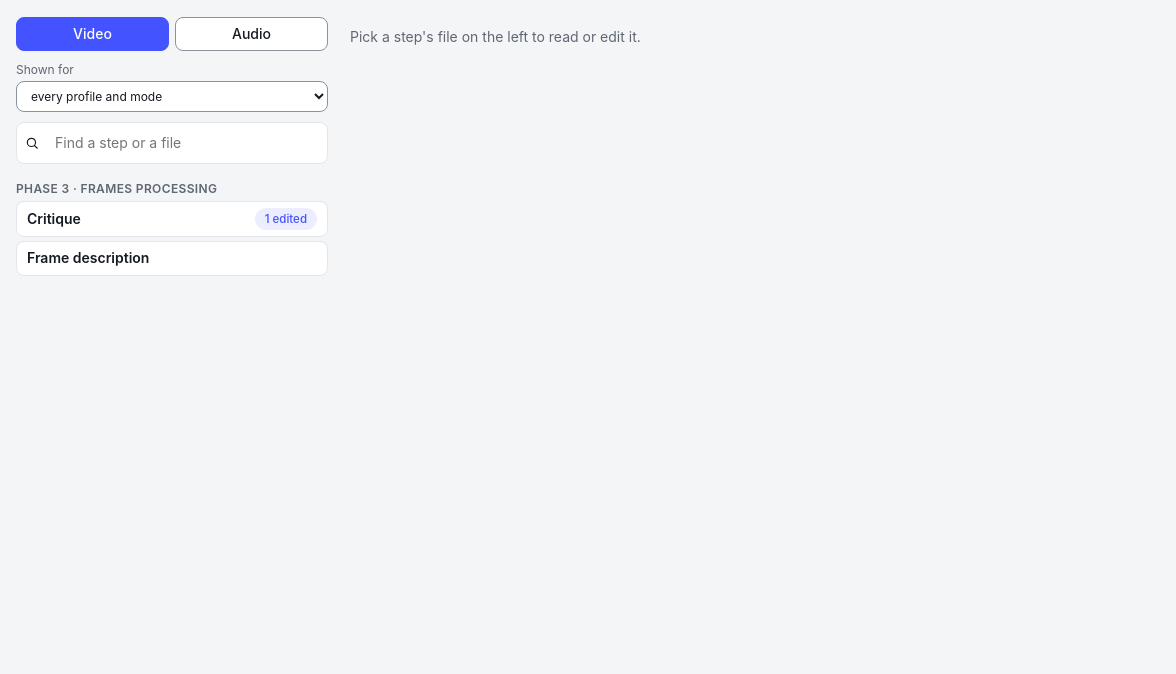
Test: Instructions › puts a shared guideline's text in place of its include, for this file alone
The image size is (1176, 674).
Click the text "Critique" at point(54, 219), box [27,209,81,230]
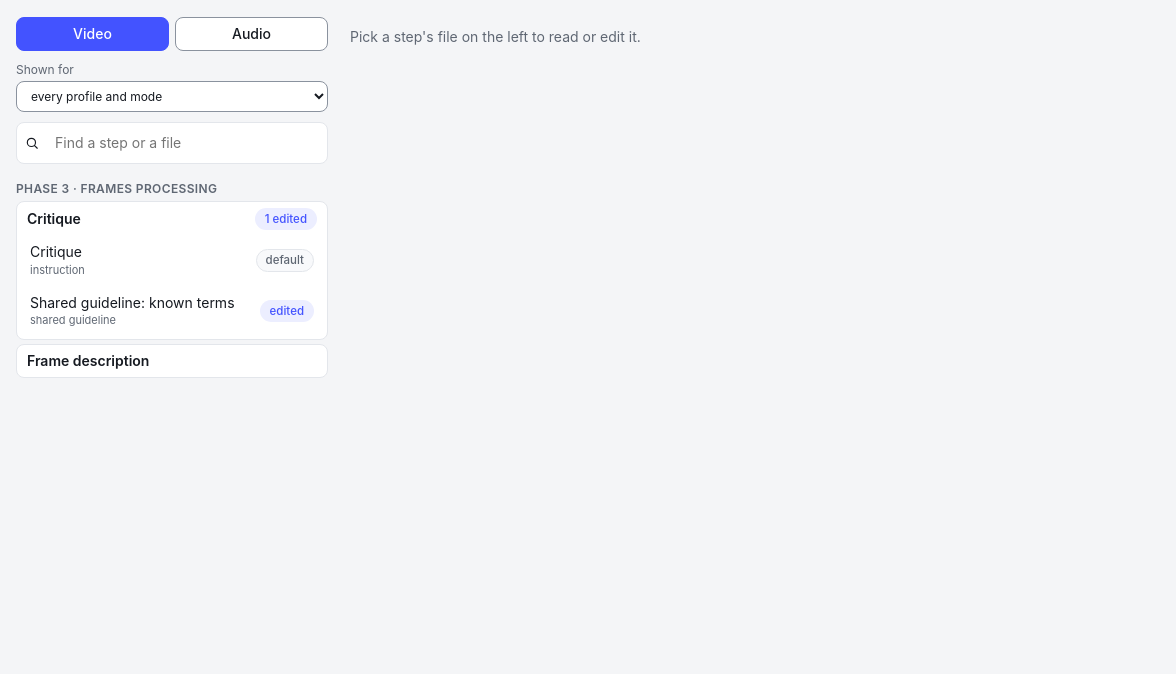
Click the button with aria-label "Critique (instruction), default" at point(56, 252), box [21,236,323,285]
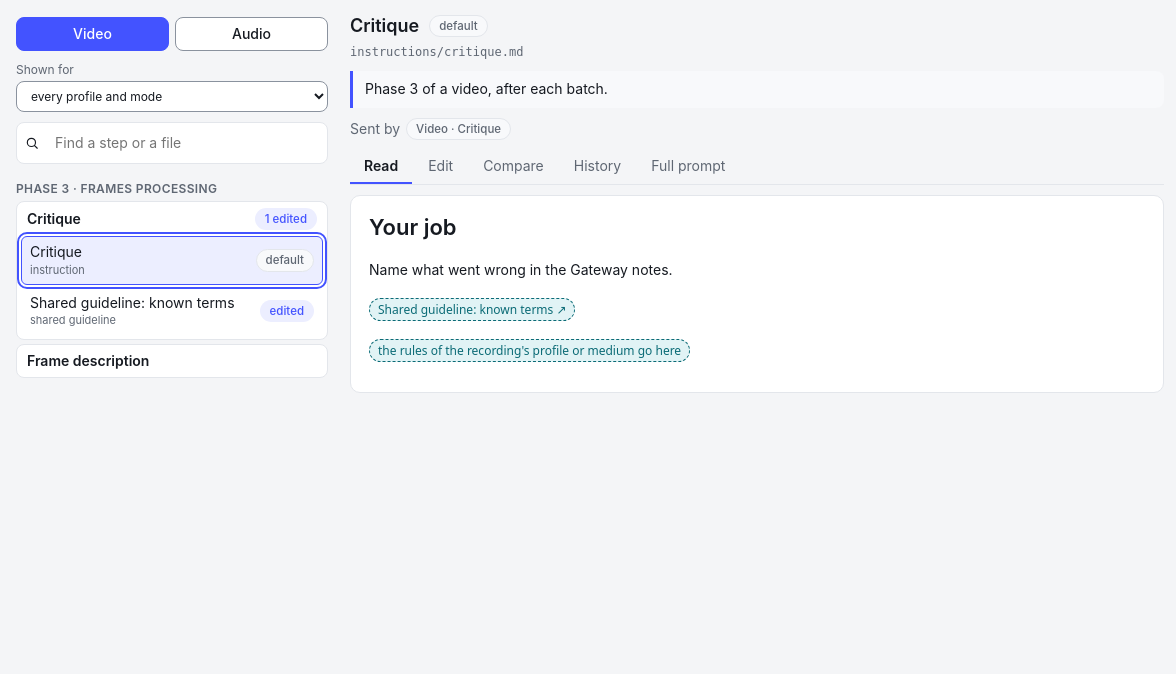
expect the heading "Critique" is shown: met, box [350,13,419,39]
Click the tab "Edit" at point(441, 167), box [414,150,467,184]
(page scrolled)
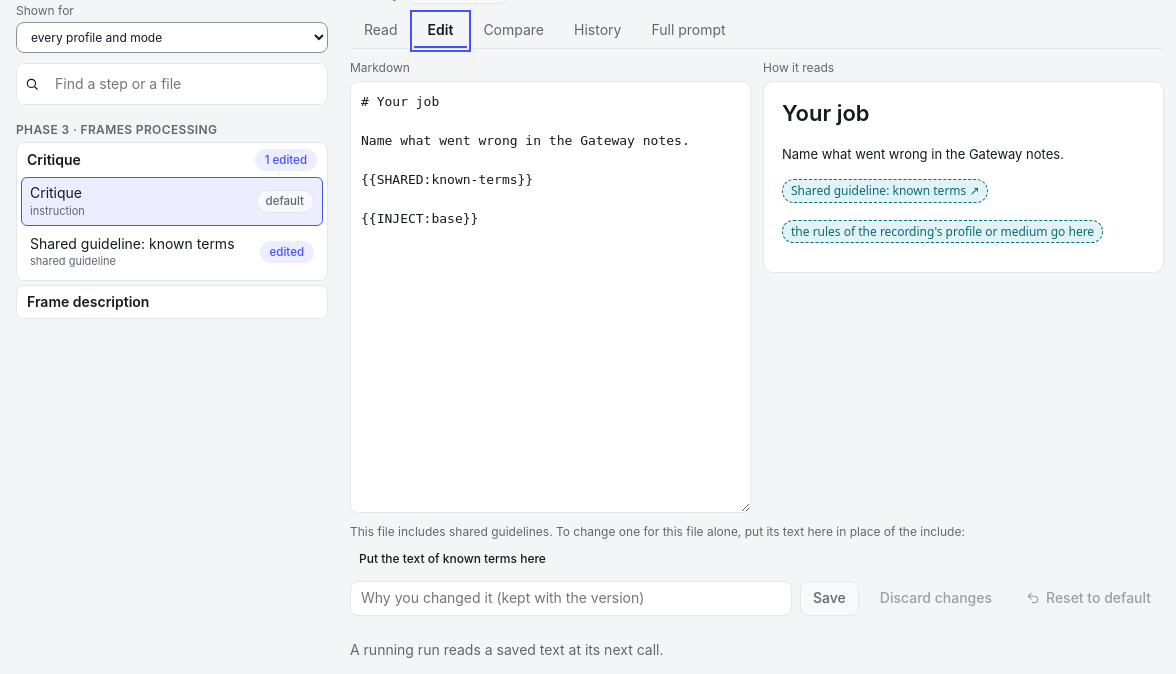
Click the button "Put the text of known terms here" at point(452, 559), box [350,546,555,571]
(page scrolled)
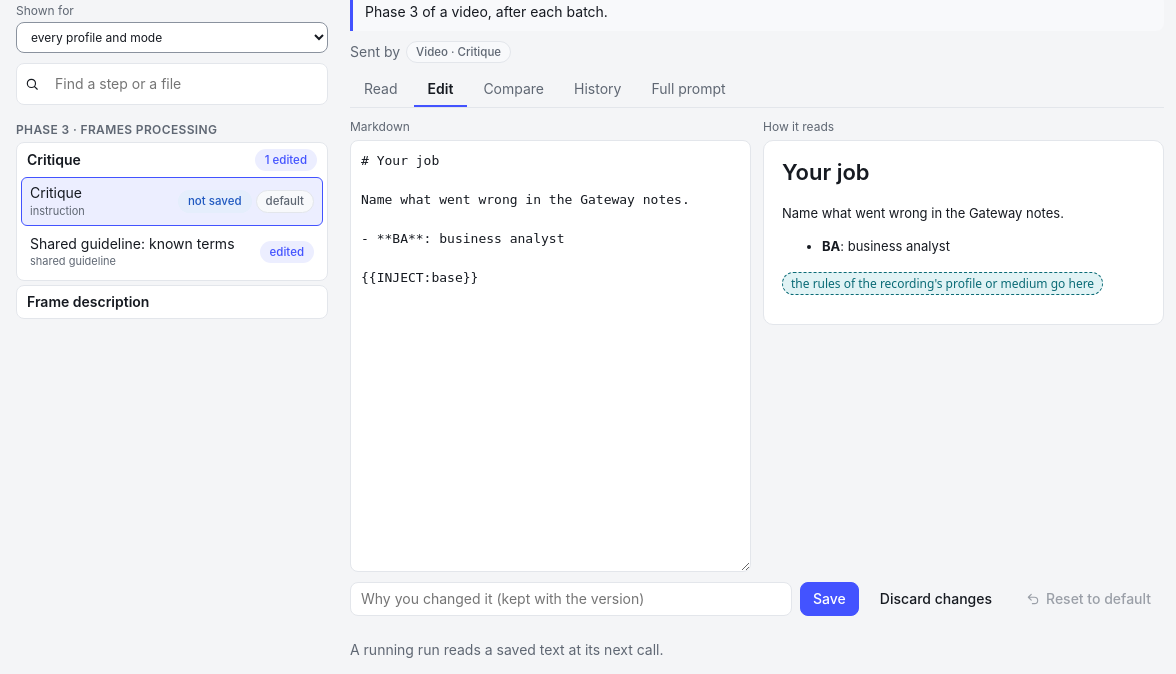
expect the button "Put the text of known terms here" is gone: met
